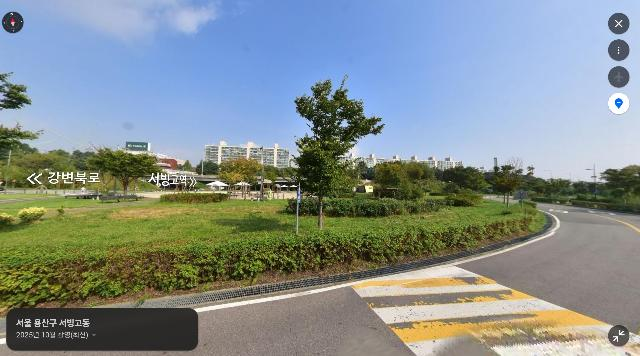ginkgo: (219, 156, 262, 201)
other: (284, 64, 373, 232), (89, 143, 163, 202), (599, 164, 640, 205), (485, 158, 519, 207), (0, 71, 33, 112), (0, 122, 43, 153), (507, 154, 527, 205), (454, 164, 483, 196), (521, 164, 538, 197)
